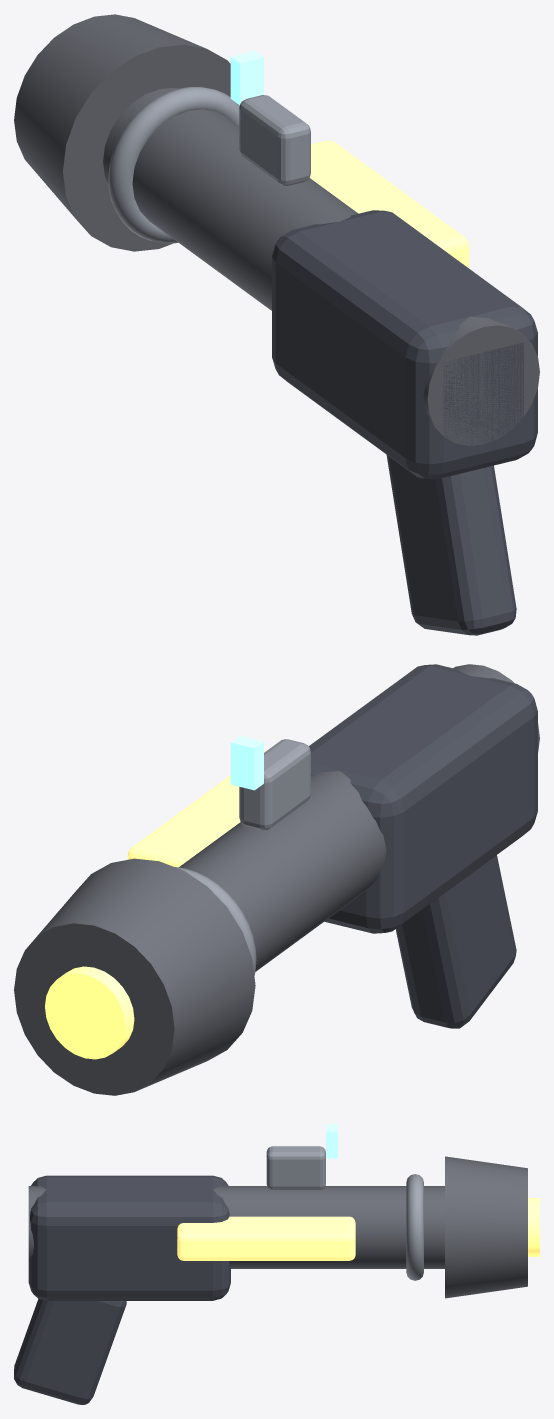
The model's file is launcher.glb.
3 views of the same model, one above another, from view 1: azimuth 30°, elevation 25°; view 2: azimuth 150°, elevation 25°; view 3: azimuth 270°, elevation 25° (orthographic). The views are drawn at different scales.
Visible parts, largest first — view 1: Cube, Cylinder, Cone, Cube.002, Cube.001, Torus, Cube.003, Cube.004; view 2: Cube, Cone, Cylinder, Cube.002, Cylinder.001, Cube.001, Cube.003, Cube.004, Torus; view 3: Cube, Cylinder, Cone, Cube.002, Cube.001, Cube.003, Torus, Cylinder.001, Cube.004.
Boxes of the visible parts, x1,y1,x2,y2 form: Cube: [272, 210, 537, 479]; Cylinder: [103, 87, 539, 445]; Cone: [14, 14, 230, 251]; Cube.002: [386, 455, 516, 635]; Cube.001: [309, 140, 468, 267]; Torus: [108, 87, 239, 243]; Cube.003: [239, 95, 310, 185]; Cube.004: [230, 51, 263, 105]; Cube: [309, 664, 537, 933]; Cone: [14, 858, 255, 1095]; Cylinder: [179, 664, 539, 971]; Cube.002: [395, 855, 516, 1028]; Cylinder.001: [45, 966, 134, 1059]; Cube.001: [127, 751, 265, 867]; Cube.003: [239, 739, 310, 830]; Cube.004: [230, 736, 263, 790]; Torus: [175, 867, 256, 975]; Cube: [28, 1175, 230, 1300]; Cylinder: [28, 1186, 444, 1268]; Cone: [445, 1156, 527, 1298]; Cube.002: [14, 1298, 126, 1404]; Cube.001: [177, 1216, 355, 1260]; Cube.003: [266, 1146, 325, 1189]; Torus: [406, 1174, 423, 1280]; Cylinder.001: [528, 1198, 539, 1256]; Cube.004: [326, 1124, 337, 1158].
Size of the model in its own units: 0.25 by 0.5056 by 0.8849.
